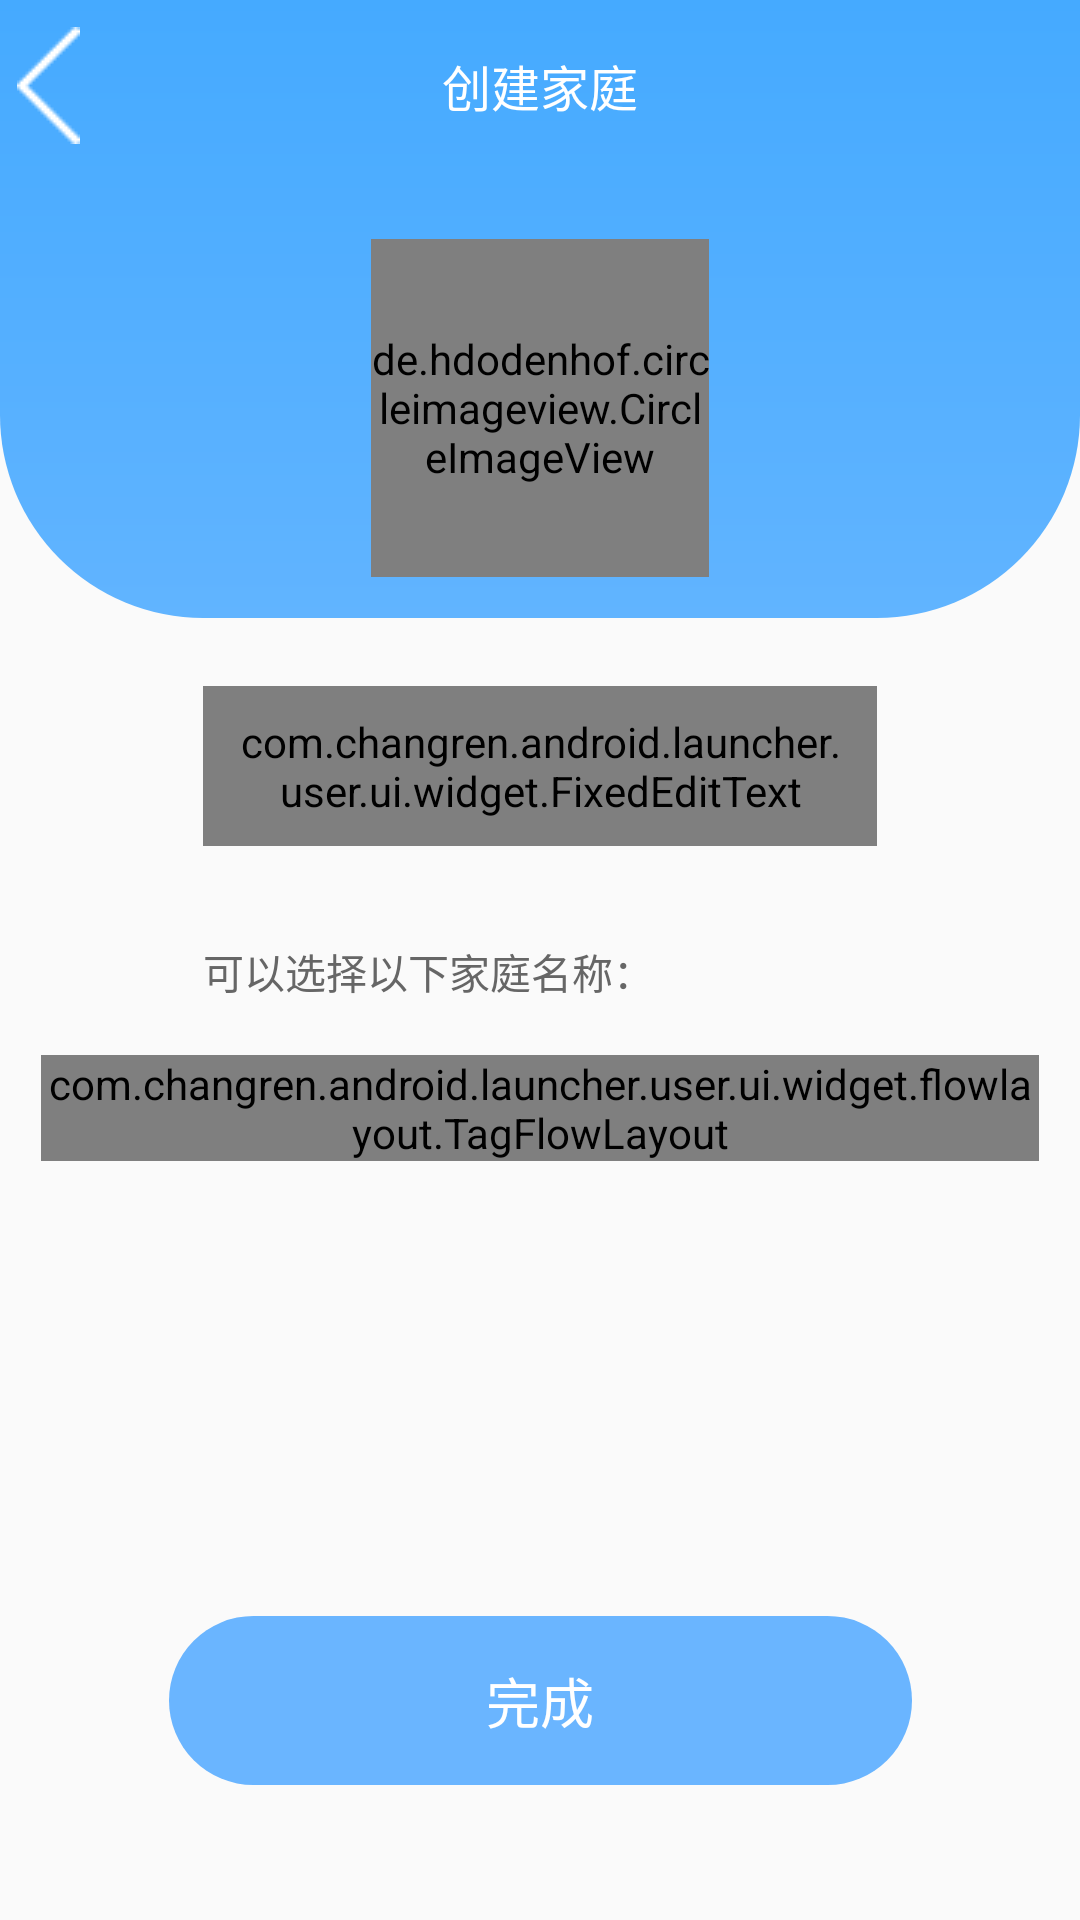

Where icons sit on this 1080*1920 app screen, as [left=x1, top=y1, right=x2, bottom=y2]:
back: [left=17, top=27, right=80, bottom=144]
